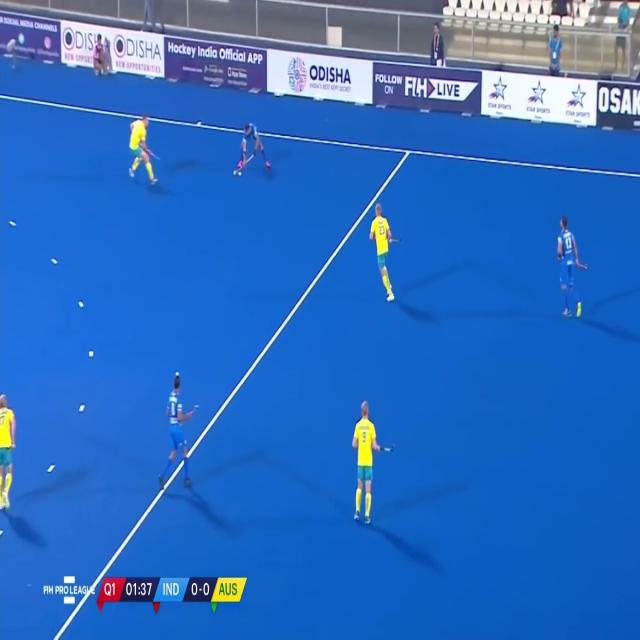ball: (236, 165, 246, 184)
